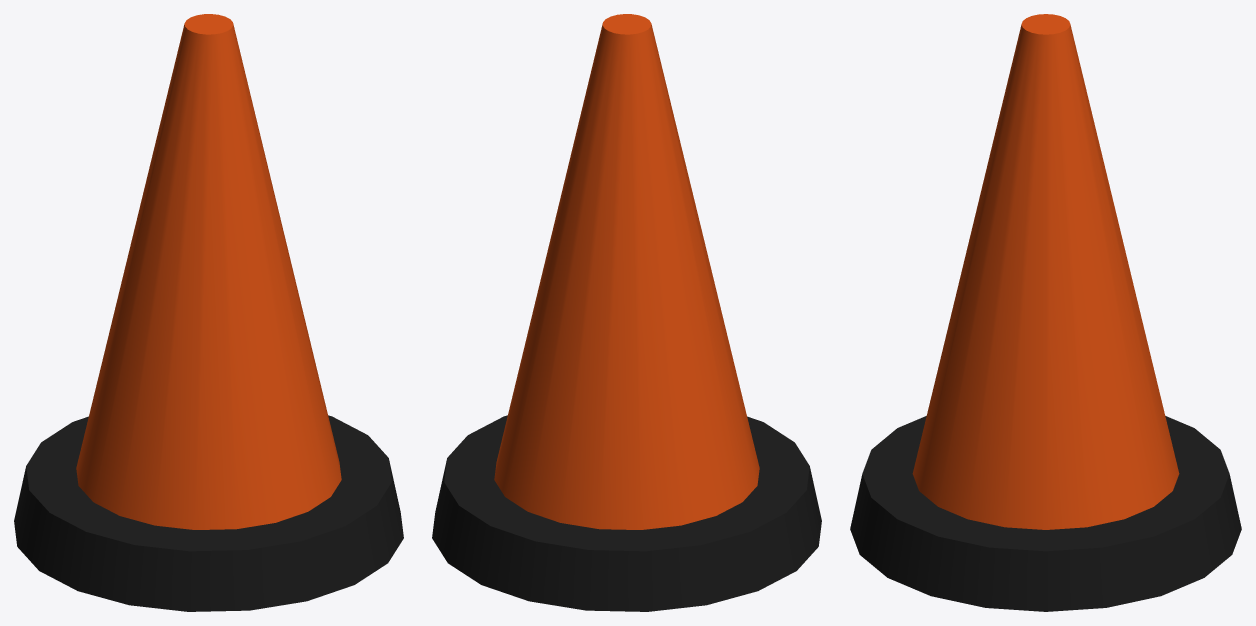
3 renders of one model, left to right at view 1: azimuth 30°, elevation 25°; view 2: azimuth 150°, elevation 25°; view 3: azimuth 270°, elevation 25°, orthographic.
Visible parts, largest first — view 1: cone; view 2: cone; view 3: cone.
Boxes of the visible parts, x1,y1,x2,y2 form: cone: (14, 14, 403, 611); cone: (432, 14, 821, 611); cone: (850, 14, 1241, 611).
Bounding box in the file's own units: 0.64 × 0.91 × 0.64.
